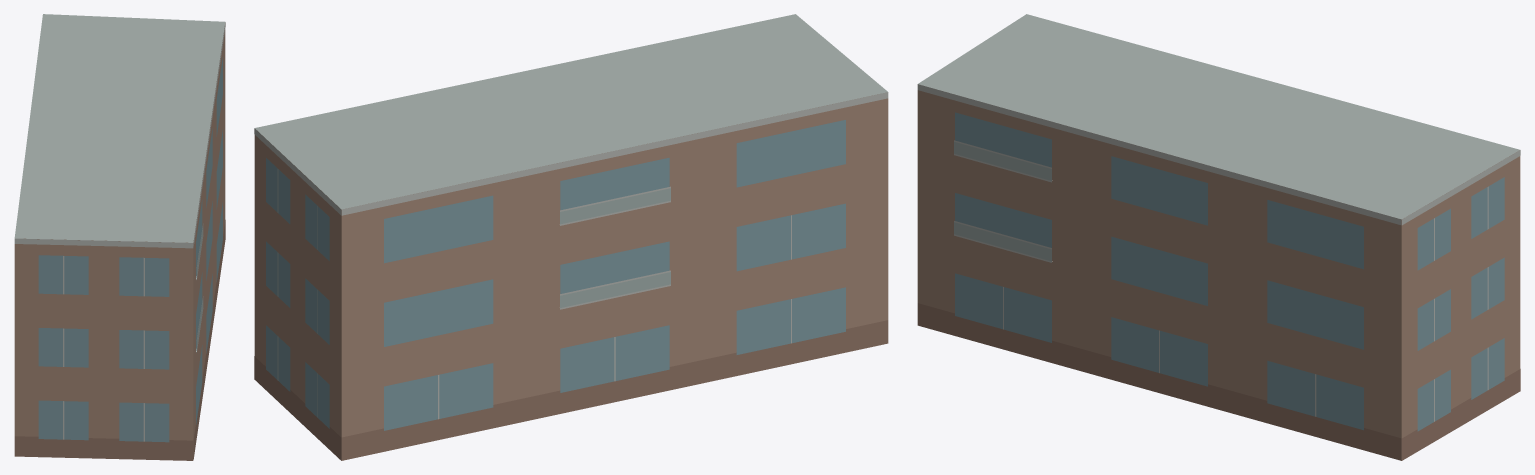
The model's file is survey-upis-32893171.glb.
The picture shows the model from 3 angles, left to right: view 1: azimuth 30°, elevation 25°; view 2: azimuth 150°, elevation 25°; view 3: azimuth 270°, elevation 25°; orthographic projection. The views are drawn at different scales.
Visible parts, largest first — view 1: survey-upis-32893171.tmp; view 2: survey-upis-32893171.tmp; view 3: survey-upis-32893171.tmp.
Boxes of the visible parts, bbox=[...] form: survey-upis-32893171.tmp: bbox=[14, 14, 225, 460]; survey-upis-32893171.tmp: bbox=[254, 14, 888, 460]; survey-upis-32893171.tmp: bbox=[917, 14, 1520, 460].
Bounding box in the file's own units: 17.9 × 9.8 × 22.19.
